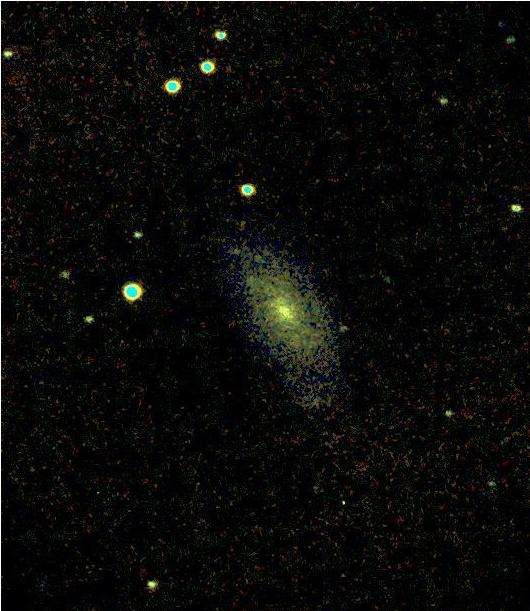star: (253, 290, 283, 320)
